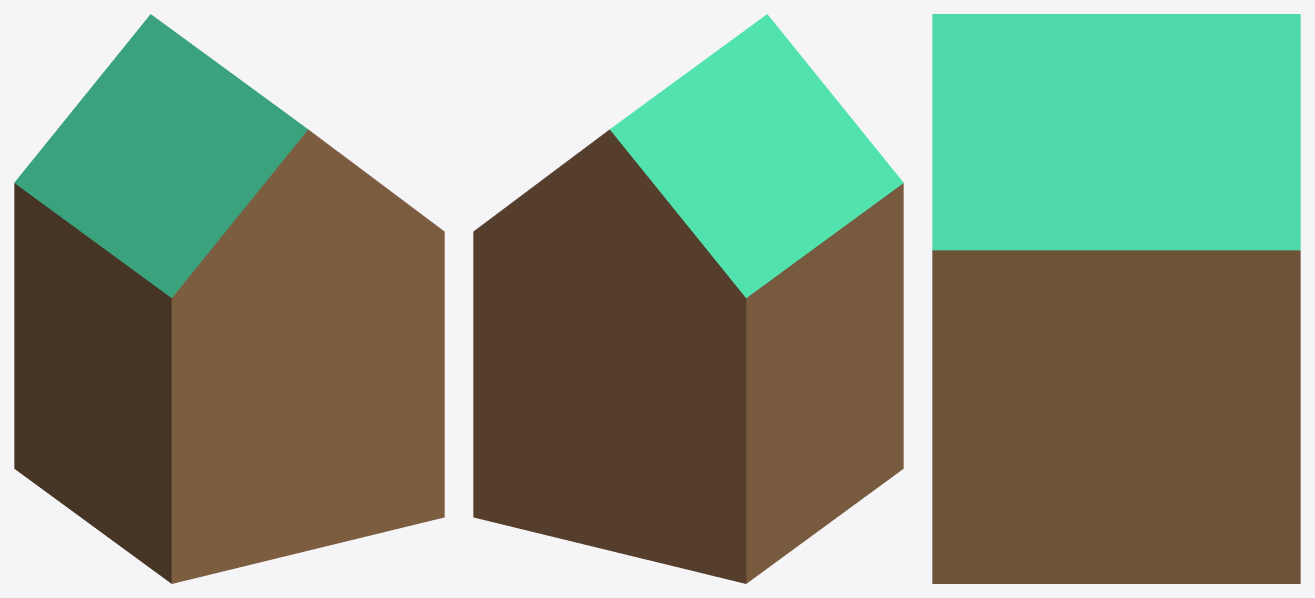
The model's file is house.glb.
The picture shows the model from 3 angles, left to right: view 1: azimuth 30°, elevation 25°; view 2: azimuth 150°, elevation 25°; view 3: azimuth 270°, elevation 25°; orthographic projection. The views are drawn at different scales.
Visible parts, largest first — view 1: Cube; view 2: Cube; view 3: Cube.
Boxes of the visible parts, x1=… form: Cube: x1=14, y1=14, x2=444, y2=583; Cube: x1=473, y1=14, x2=903, y2=583; Cube: x1=932, y1=14, x2=1300, y2=583.
Bounding box in the file's own units: 2 × 2.95 × 2.
